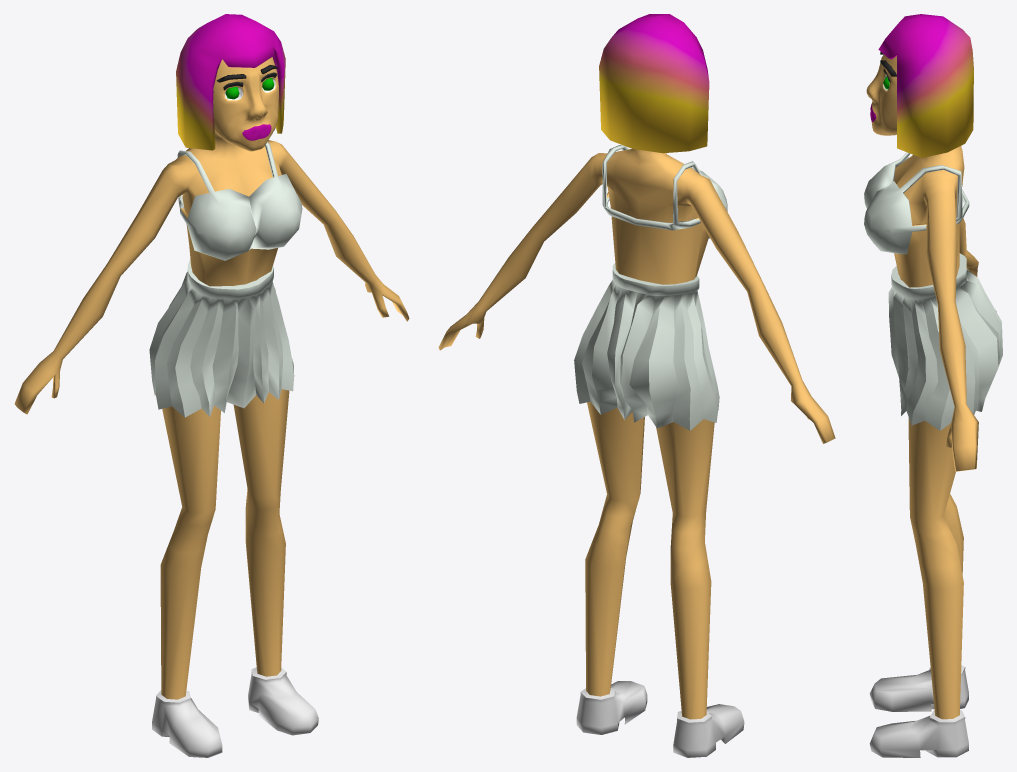
File: Girl_4.fbx
3 views of the same model, side by side, from view 1: azimuth 30°, elevation 25°; view 2: azimuth 150°, elevation 25°; view 3: azimuth 270°, elevation 25° (orthographic).
Parts seen in each view (by area): view 1: Girl_4; view 2: Girl_4; view 3: Girl_4.
Boxes of the visible parts, x1,y1,x2,y2 form: Girl_4: (14,14,409,757); Girl_4: (438,14,835,757); Girl_4: (864,14,1002,757).
Size of the model in its own units: 91.94 by 159 by 28.3.
Materials: 1 (1 with a texture image).
